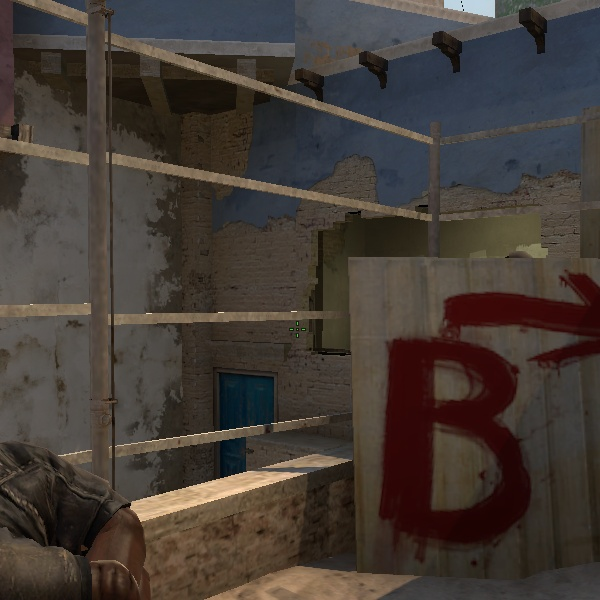t_body: (506, 1, 557, 52)
